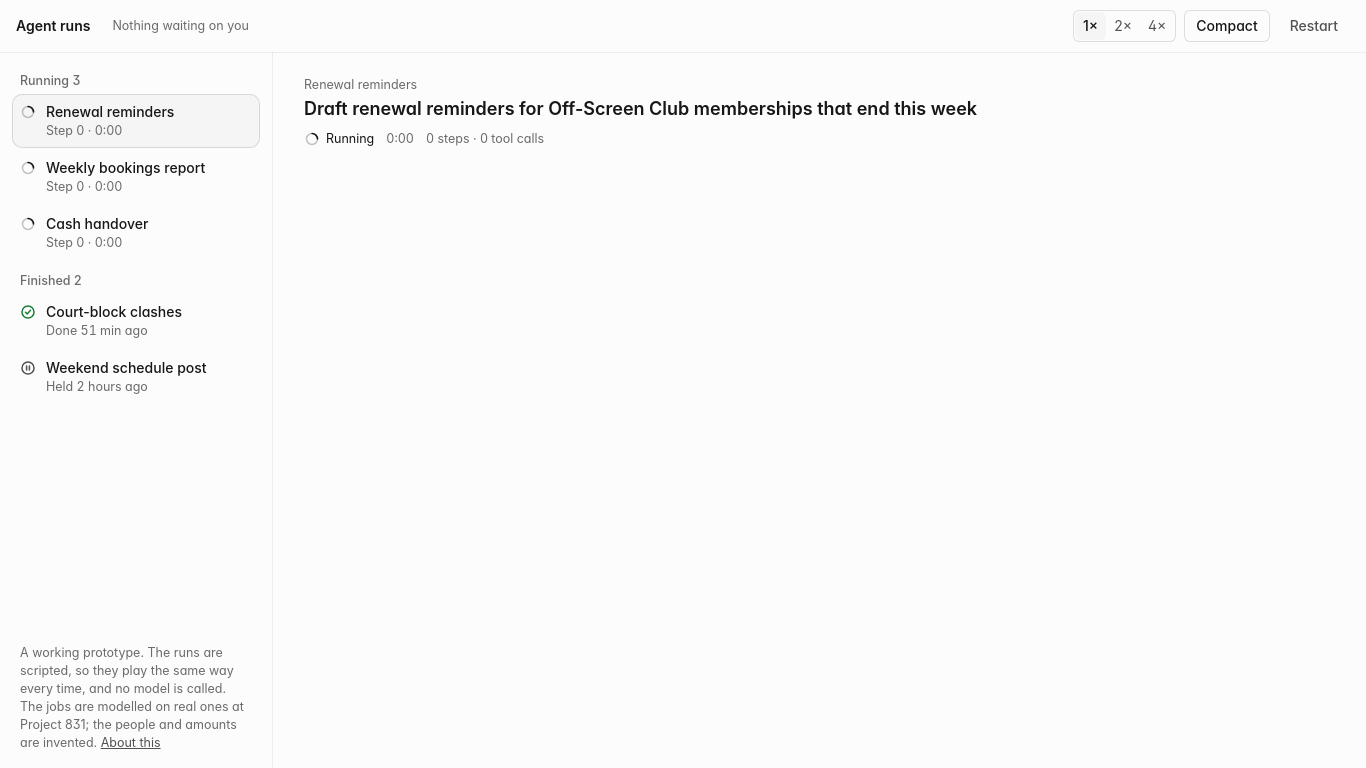
Test: the live view › counts down a retry
The width and height of the screenshot is (1366, 768).
What coordinates should you click on to do the following:
click the button "Weekly bookings report Step 0 · 0:00"
I would click on:
 (136, 177)
Its box is [12, 150, 260, 204].
Wait 3850 ms
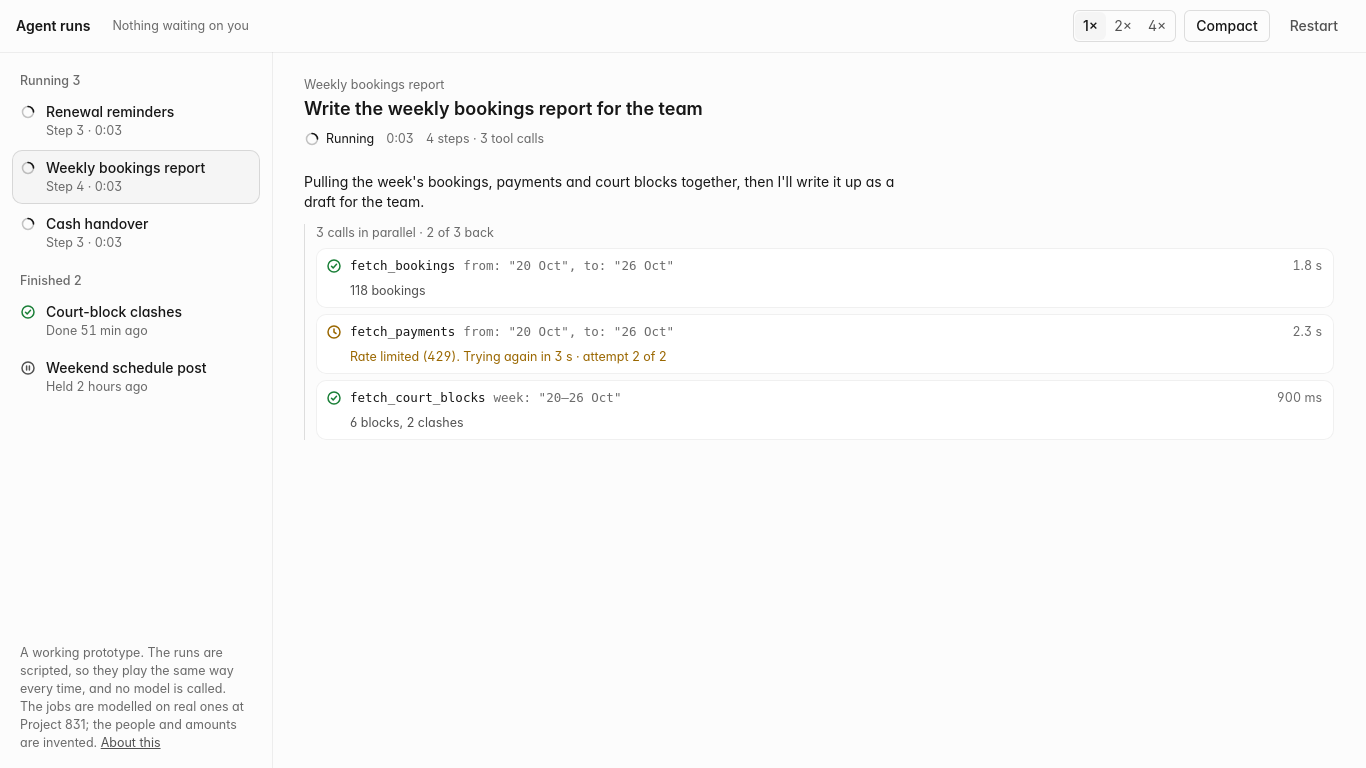
Now the text "Rate limited (429). Trying again in 3 s · attempt 2 of 2" is shown, box [350, 349, 667, 364]
